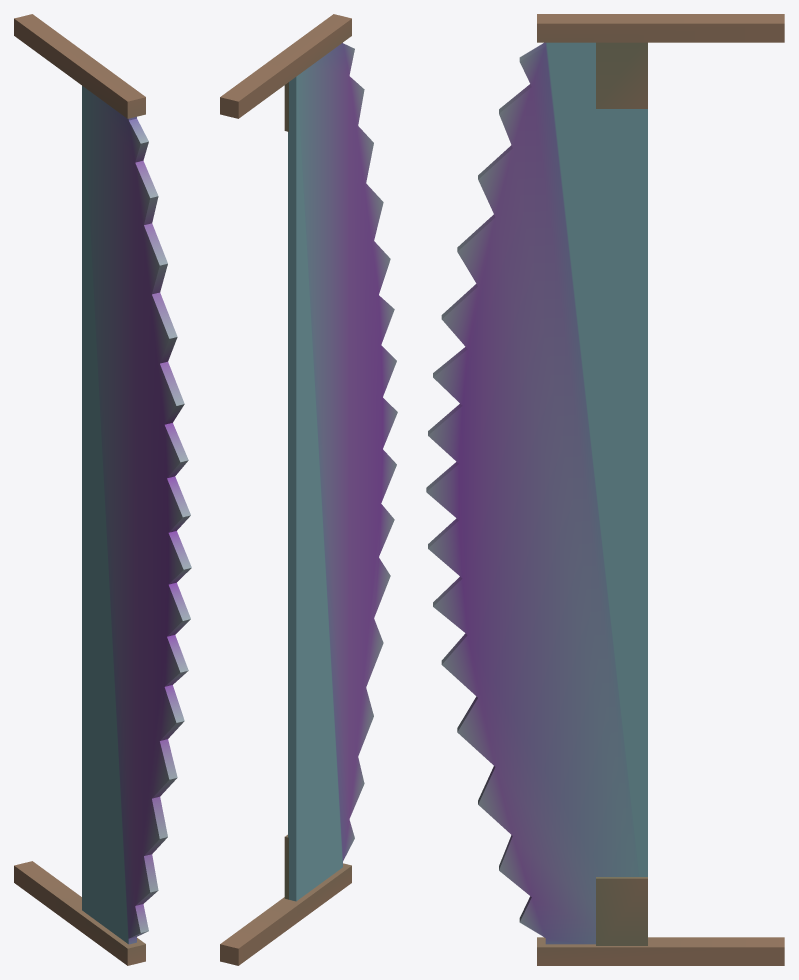
3 renders of one model, left to right at view 1: azimuth 30°, elevation 25°; view 2: azimuth 150°, elevation 25°; view 3: azimuth 270°, elevation 25°, orthographic. The views are drawn at different scales.
Parts seen in each view (by area): view 1: blade, upper_bar, lower_bar; view 2: blade, upper_bar, lower_bar; view 3: blade, upper_bar, lower_bar, lower_tab, upper_tab.
Boxes of the visible parts, x1,y1,x2,y2 form: blade: (82,86,191,944); upper_bar: (14,14,145,118); lower_bar: (14,861,145,965); blade: (288,43,397,901); upper_bar: (220,14,351,118); lower_bar: (220,863,351,965); blade: (426,42,647,944); upper_bar: (537,14,784,42); lower_bar: (537,937,784,965); lower_tab: (596,877,647,945); upper_tab: (596,42,647,108).
Size of the model in its own units: 0.0134 by 0.6 by 0.207.
